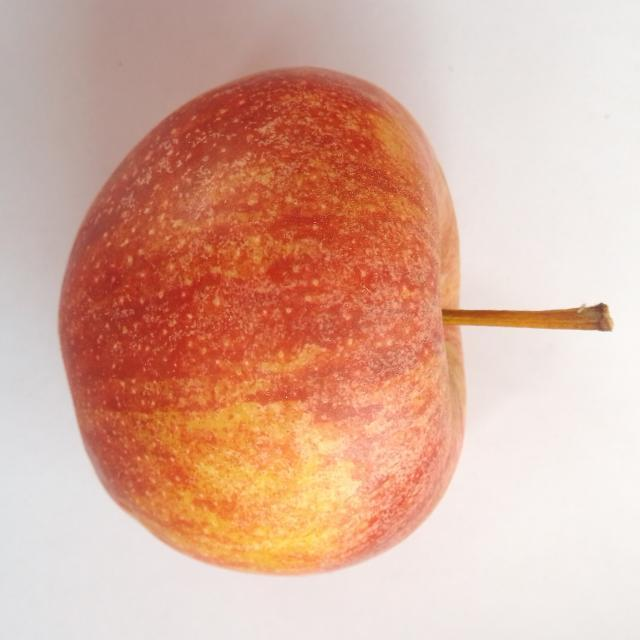Fresh Apple: (50, 60, 470, 572)
